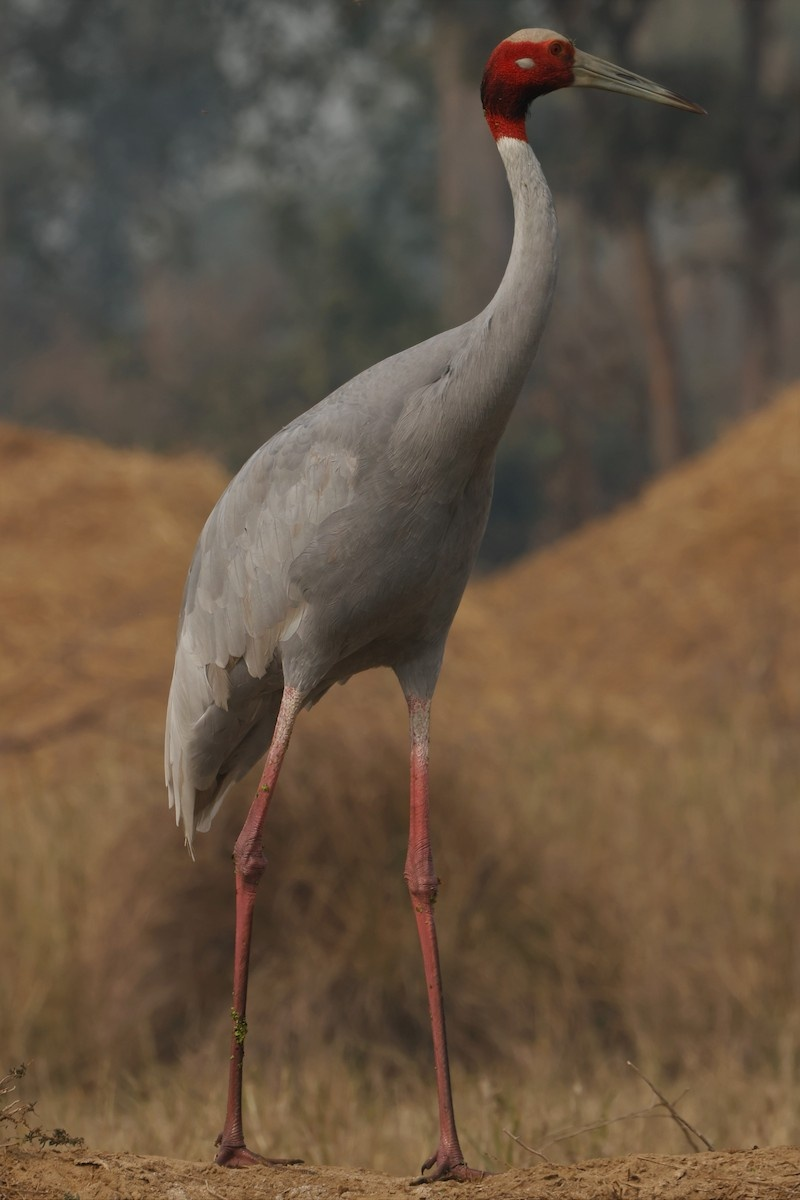crane: (115, 16, 712, 1182)
